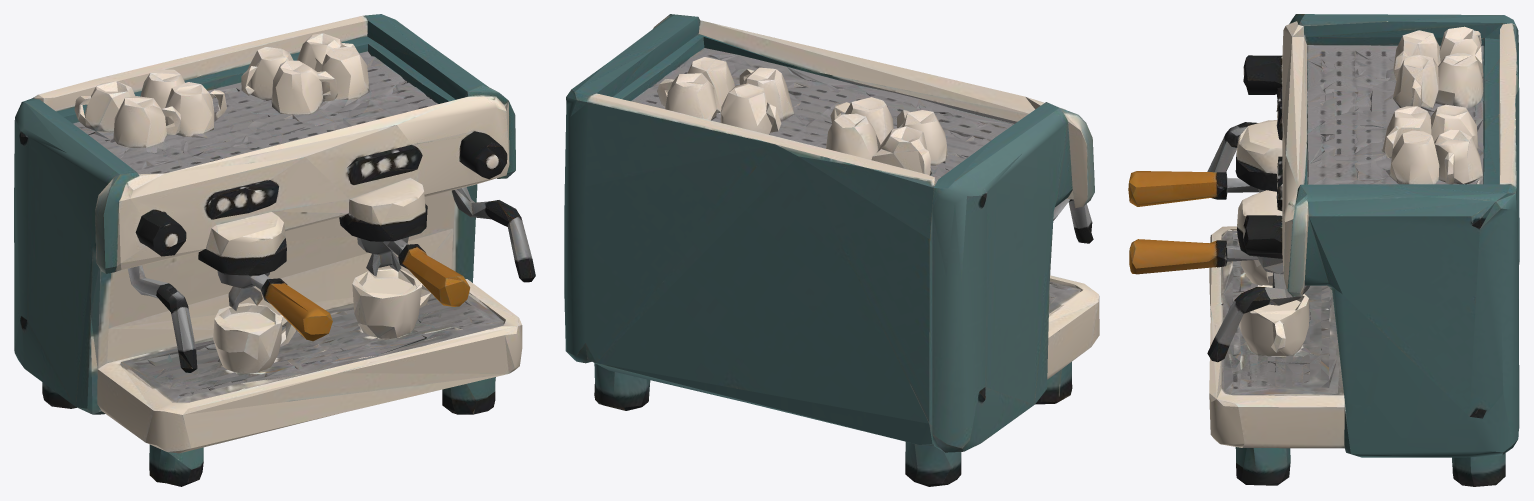
File: espresso.glb
3 views of the same model, side by side, from view 1: azimuth 30°, elevation 25°; view 2: azimuth 150°, elevation 25°; view 3: azimuth 270°, elevation 25° (orthographic). The views are drawn at different scales.
Parts seen in each view (by area): view 1: Mesh_0; view 2: Mesh_0; view 3: Mesh_0.
Part boxes in pixels (x1,y1,x2,y2): Mesh_0: (14,14,535,486); Mesh_0: (564,14,1099,486); Mesh_0: (1128,14,1519,486).
Bounding box in the file's own units: 0.6828 × 0.4907 × 0.55.
Materials: 1 (1 with a texture image).
